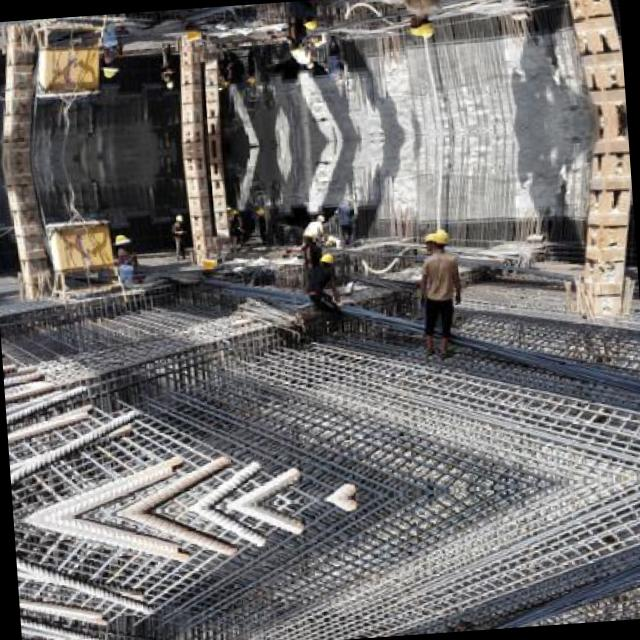helmet: (426, 224, 452, 252), (412, 12, 436, 40), (296, 13, 318, 33), (312, 246, 333, 266), (420, 227, 437, 250), (406, 15, 422, 38)
